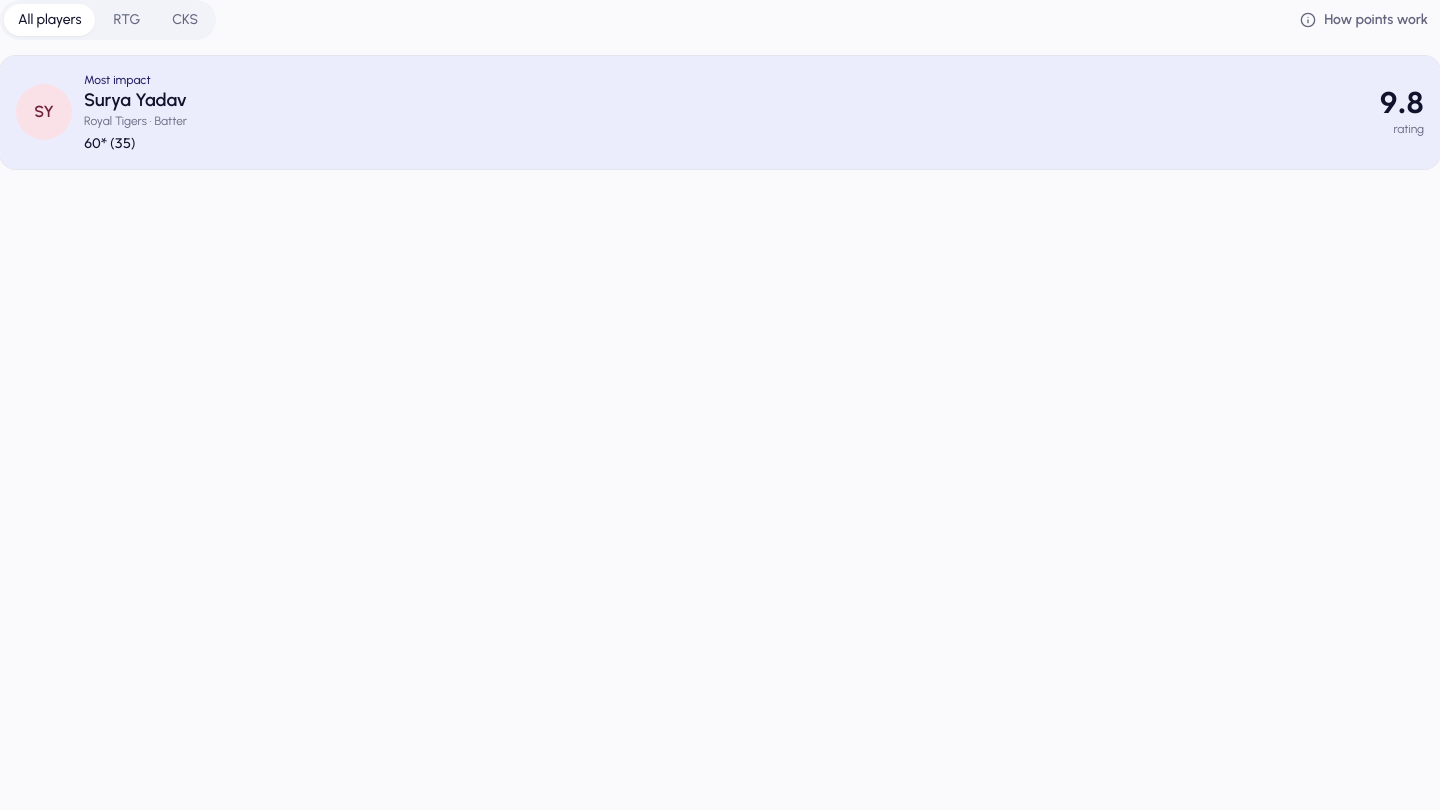
Test case: MatchSuperstars › opens a player's points and the rules
The image size is (1440, 810).
A player opens their points, part by part.
Click the button "Surya Yadav": (720, 112) 0,56 -> 1439,169
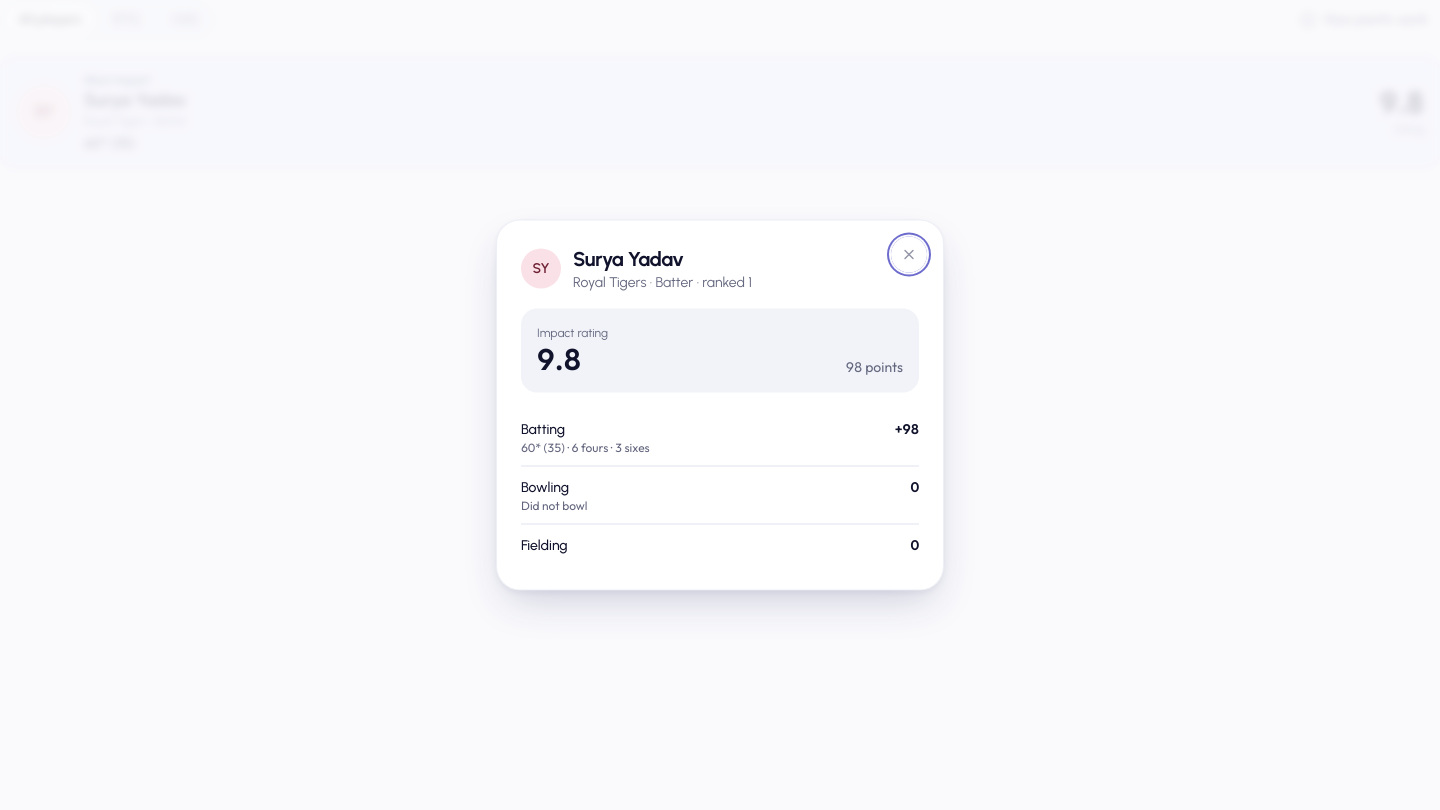
Expected: the dialog shows "Impact rating", 537,326 -> 608,340
Expected: the dialog shows "60* (35) · 6 fours · 3 sixes", 521,440 -> 650,454
Press Escape in the dialog, box 496,220 -> 944,590
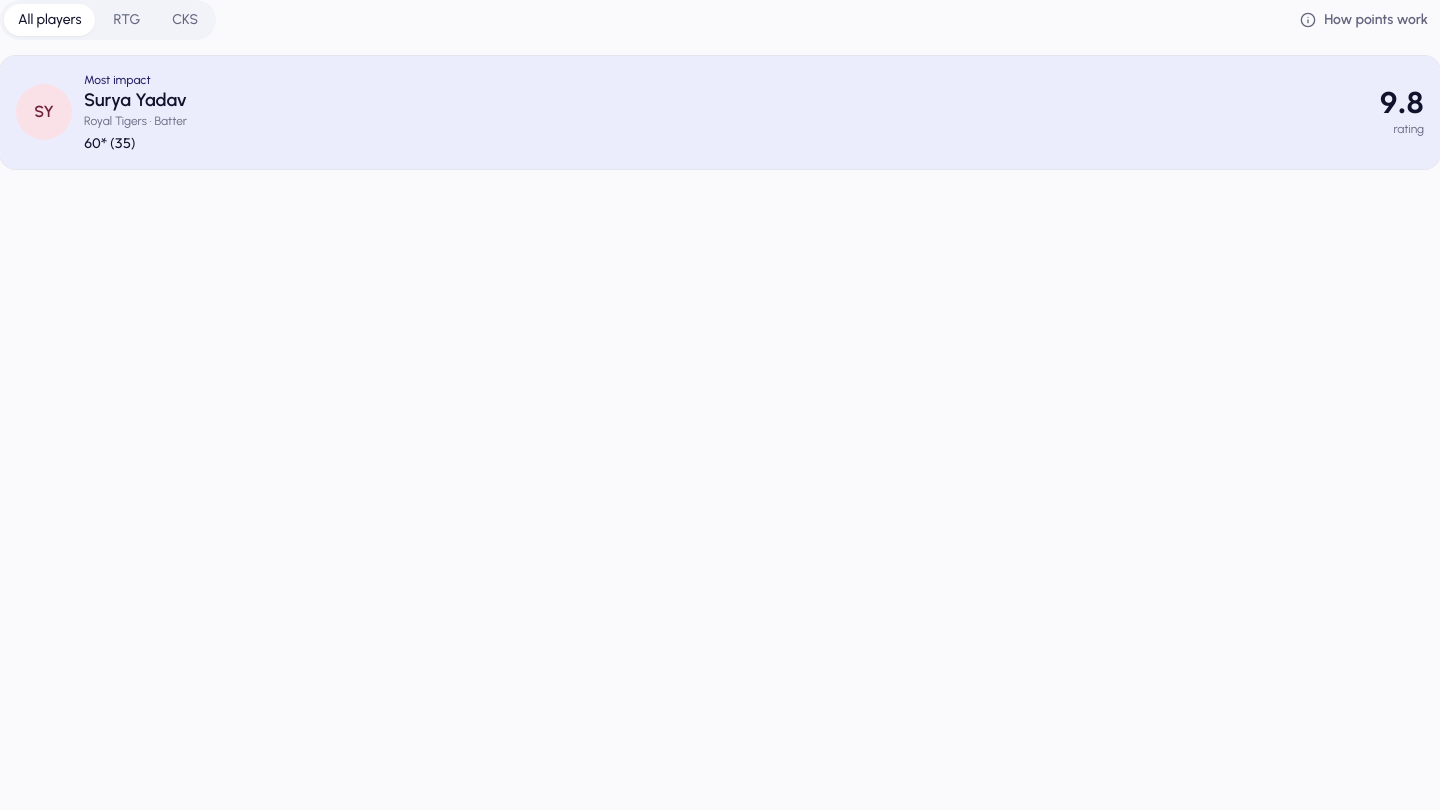
The rules match the formula (no captain multipliers).
Click the button "How points work": (1364, 20) 1288,2 -> 1439,38
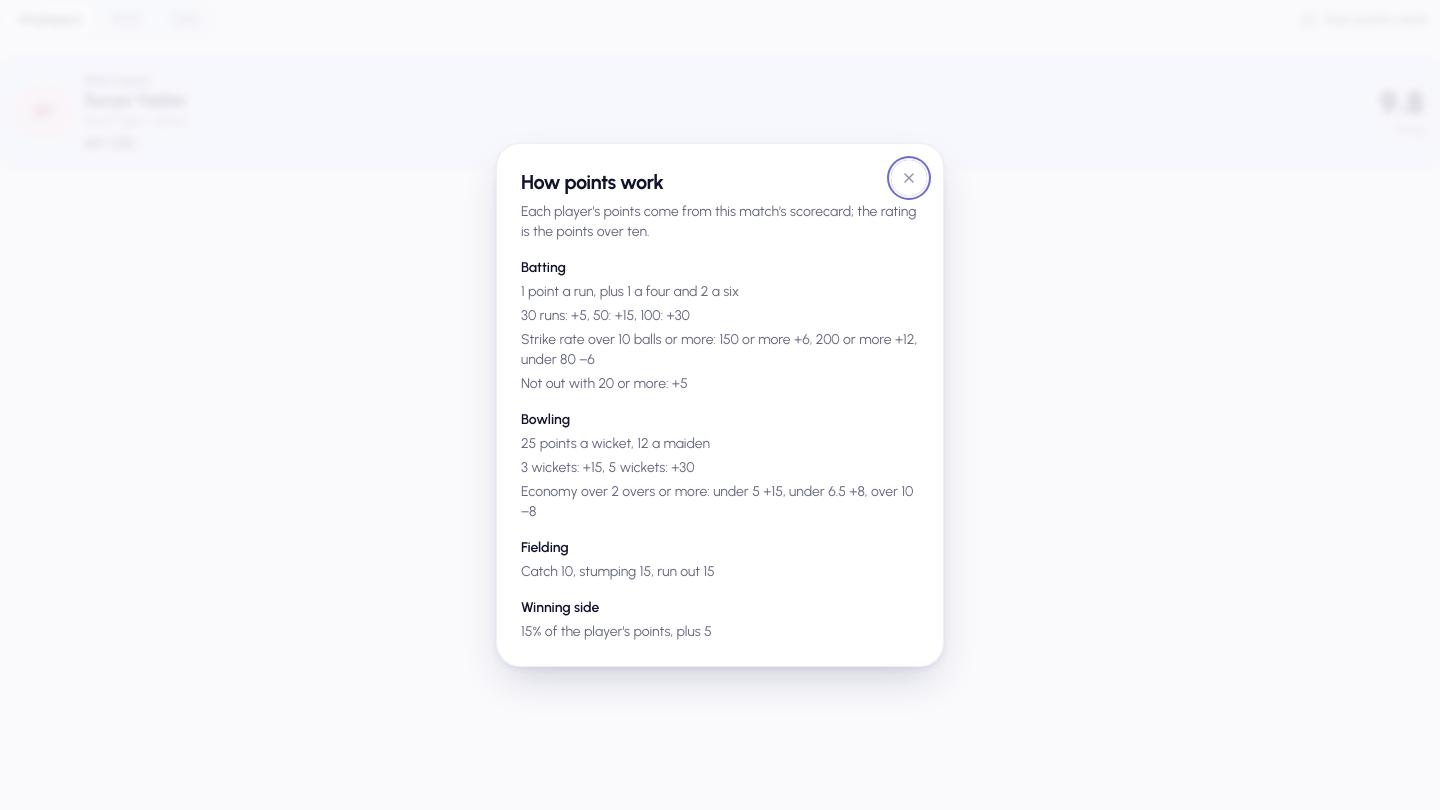
Expected: the dialog shows "25 points a wicket", 521,435 -> 710,452
